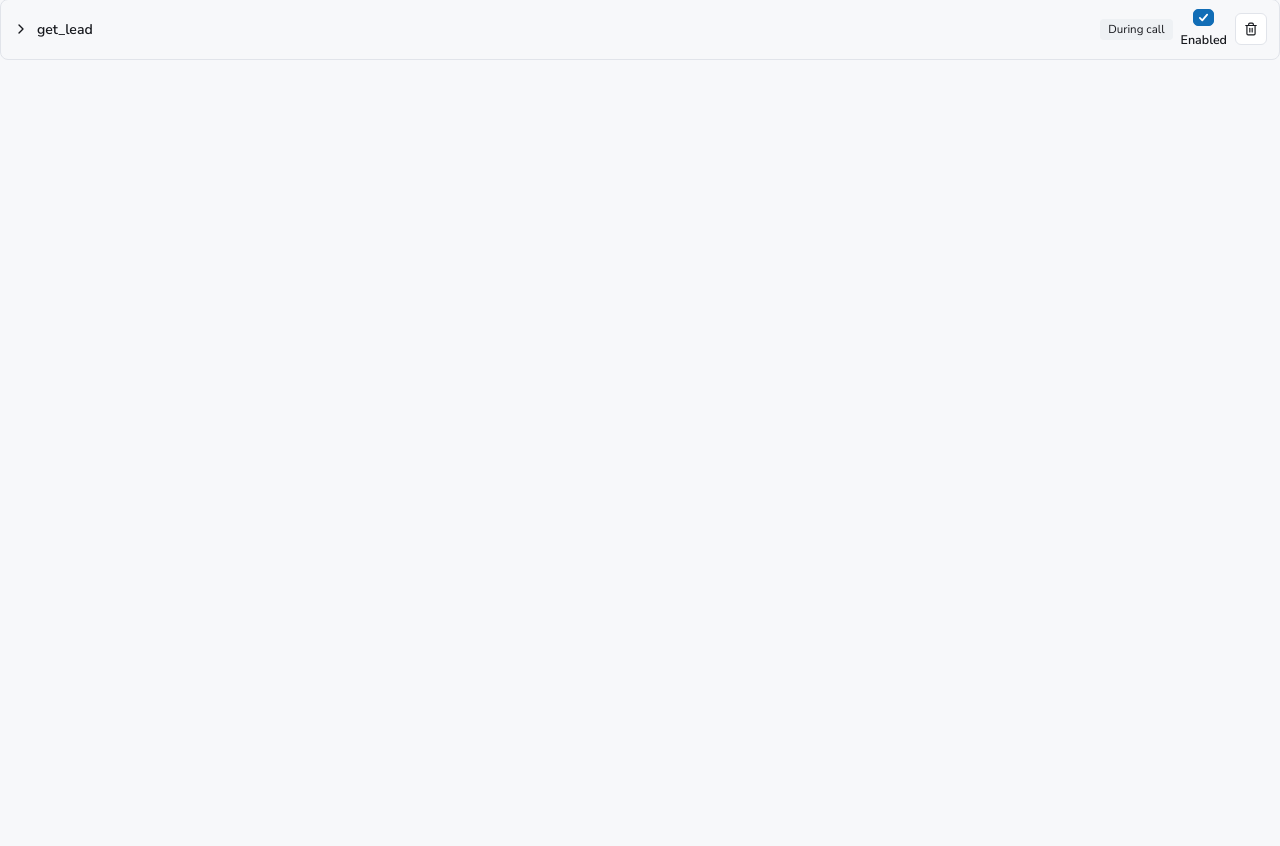
Test case: CustomFunctionsEditor › disables Test while validation errors exist (no URL)
Click the button named "Expand".
click(21, 29)  # box [13,13,29,46]
(page scrolled)
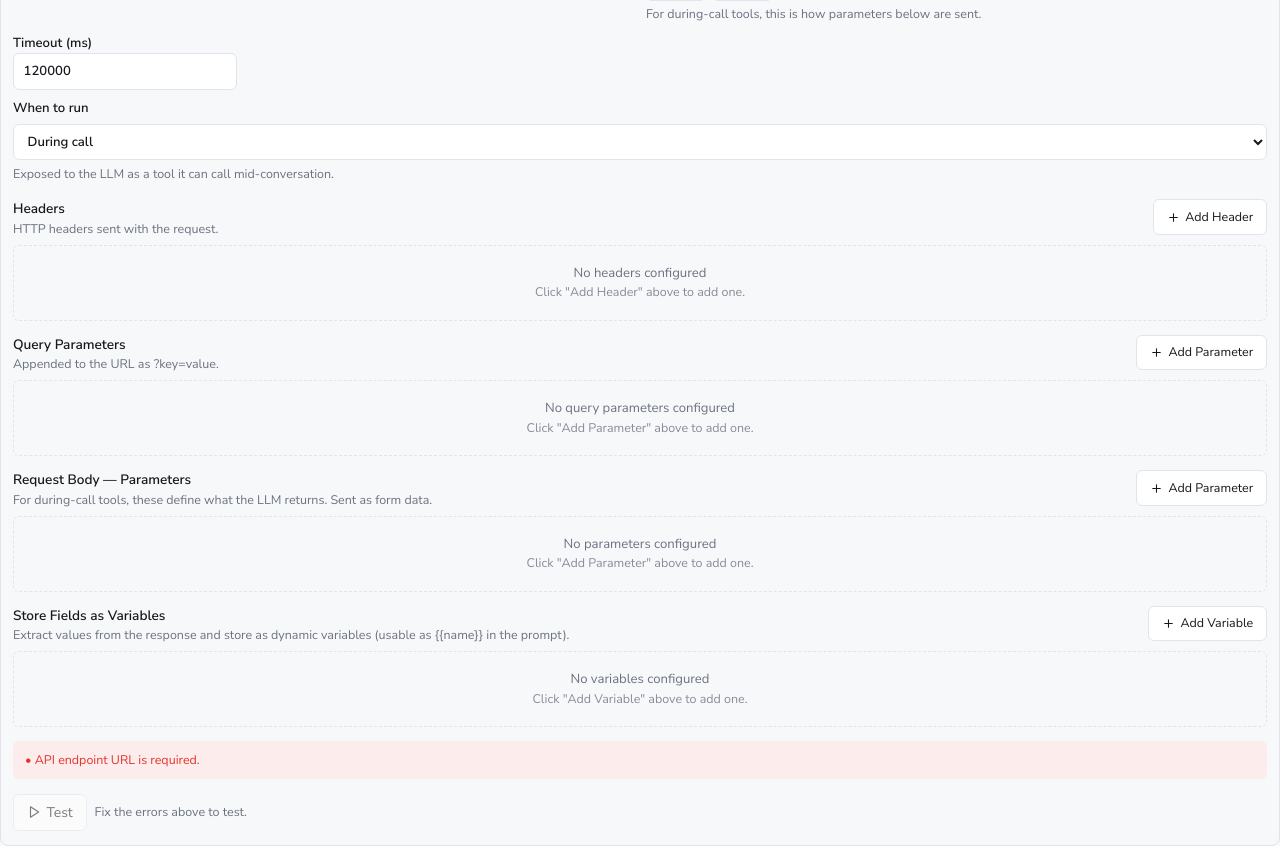
Expected: the button "Test" is disabled, [13,794,87,831]
